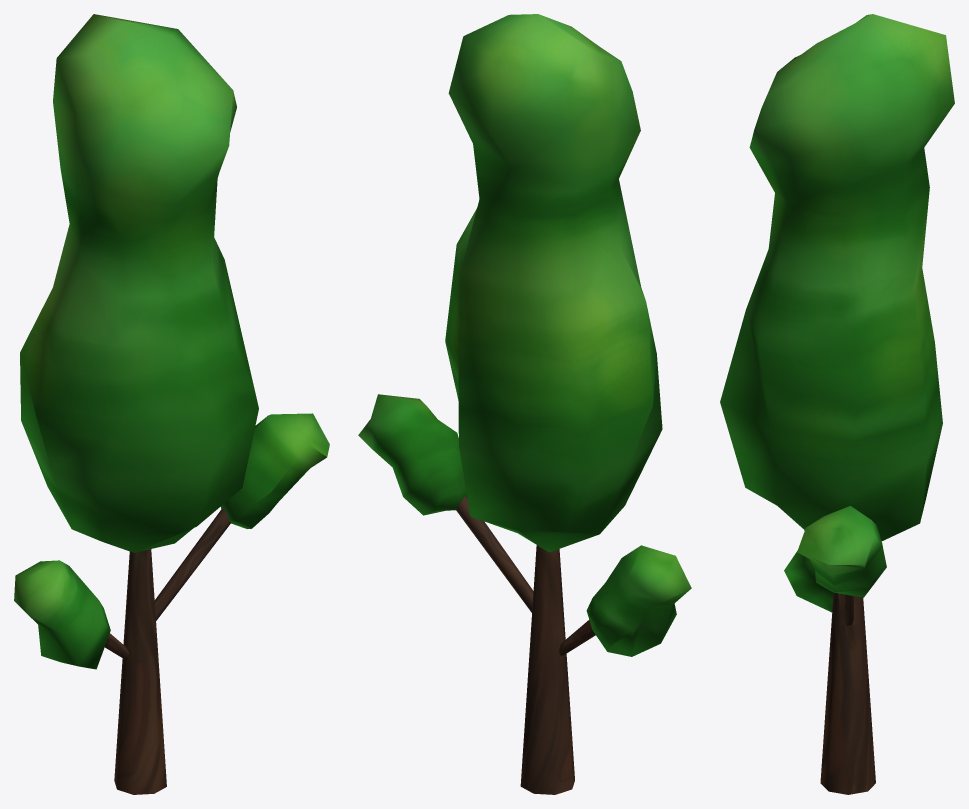
File: baum1b.fbx
3 renders of one model, left to right at view 1: azimuth 30°, elevation 25°; view 2: azimuth 150°, elevation 25°; view 3: azimuth 270°, elevation 25°, orthographic. The views are drawn at different scales.
Visible parts, largest first — view 1: baum1b; view 2: baum1b; view 3: baum1b.
Part boxes in pixels (x1,y1,x2,y2): baum1b: (14,14,329,794); baum1b: (358,14,691,794); baum1b: (720,14,954,794).
Bounding box in the file's own units: 0.8931 × 2.1 × 0.5822.
1 material, 1 textured.
